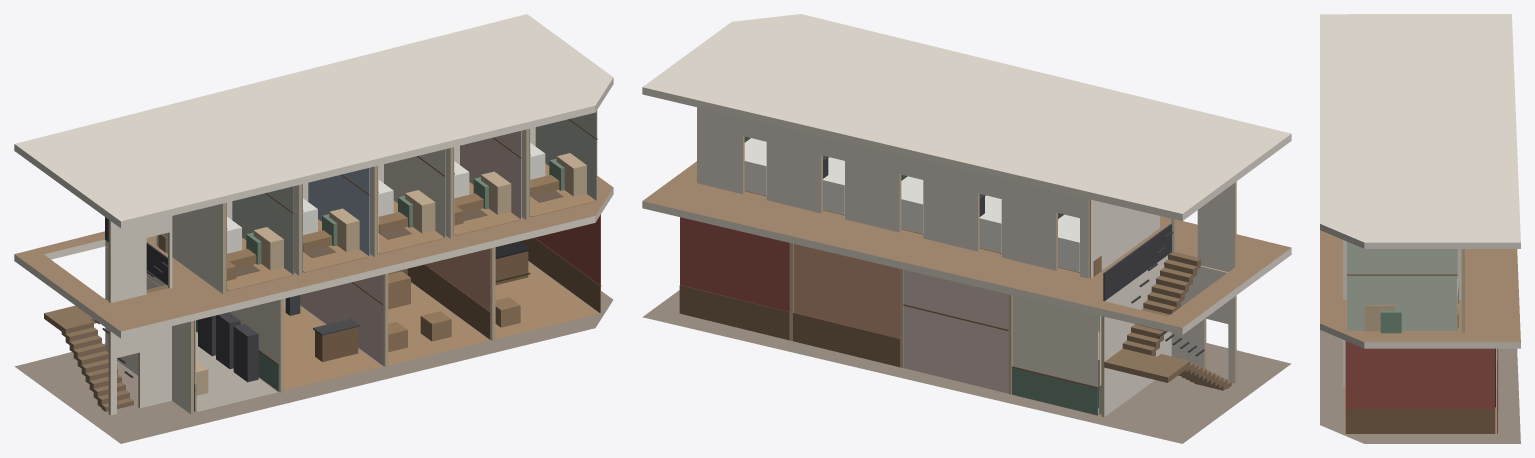
The model's file is interior.glb.
3 renders of one model, left to right at view 1: azimuth 30°, elevation 25°; view 2: azimuth 150°, elevation 25°; view 3: azimuth 270°, elevation 25°, orthographic. The views are drawn at different scales.
Parts seen in each view (by area): view 1: slabs, partitions, coarse-s1, coarse-s0, stair, unit-dress-2, unit-dress-3, unit-dress-1, unit-floor-3, unit-floor-1, unit-floor-2, flat-dress-1-4 (+13 smaller); view 2: slabs, partitions, unit-dress-3, unit-dress-2, unit-dress-1, unit-dress-0, stair, coarse-s1; view 3: slabs, unit-dress-3, flat-dress-1-4, coarse-s1, partitions.
Part boxes in pixels (x1,y1,x2,y2): slabs: [14, 14, 613, 443]; partitions: [105, 127, 535, 415]; coarse-s1: [158, 143, 586, 280]; coarse-s0: [196, 271, 520, 395]; stair: [44, 217, 168, 411]; unit-dress-2: [399, 248, 490, 339]; unit-dress-3: [520, 214, 601, 313]; unit-dress-1: [283, 274, 383, 365]; unit-floor-3: [495, 262, 599, 338]; unit-floor-1: [283, 306, 382, 390]; unit-floor-2: [388, 283, 489, 364]; flat-dress-1-4: [529, 110, 597, 217]; slabs: [642, 14, 1291, 443]; partitions: [697, 107, 1236, 417]; unit-dress-3: [679, 217, 789, 340]; unit-dress-2: [793, 244, 900, 367]; unit-dress-1: [903, 270, 1008, 393]; unit-dress-0: [1012, 295, 1101, 415]; stair: [1103, 224, 1231, 390]; coarse-s1: [744, 136, 1101, 276]; slabs: [1320, 14, 1520, 443]; unit-dress-3: [1345, 341, 1498, 433]; flat-dress-1-4: [1347, 241, 1457, 330]; coarse-s1: [1364, 278, 1458, 333]; partitions: [1343, 240, 1497, 386].
Size of the model in its own units: 20.16 by 8.3 by 7.49.
